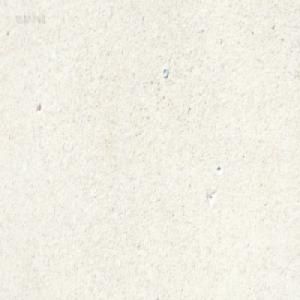Washer: (161, 67, 168, 78)
